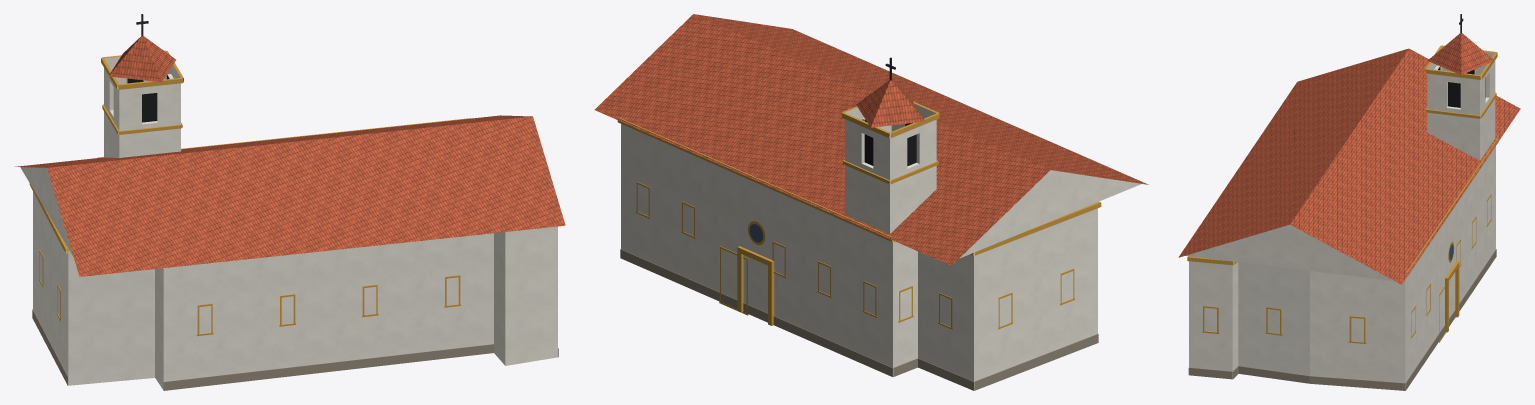
The picture shows the model from 3 angles, left to right: view 1: azimuth 30°, elevation 25°; view 2: azimuth 150°, elevation 25°; view 3: azimuth 270°, elevation 25°; orthographic projection. The views are drawn at different scales.
Visible parts, largest first — view 1: B-w1220983272_cubierta, B-w1220983272_lejos, B-w1220983272_muros, B-w1220983272_remates, B-w1220983272_molduras; view 2: B-w1220983272_cubierta, B-w1220983272_lejos, B-w1220983272_muros, B-w1220983272_remates, B-w1220983272_molduras; view 3: B-w1220983272_cubierta, B-w1220983272_lejos, B-w1220983272_muros, B-w1220983272_remates, B-w1220983272_molduras.
Boxes of the visible parts, left/top/right/bottom form: B-w1220983272_cubierta: left=15, top=115, right=565, bottom=276; B-w1220983272_lejos: left=40, top=207, right=557, bottom=384; B-w1220983272_muros: left=33, top=191, right=505, bottom=389; B-w1220983272_remates: left=101, top=14, right=183, bottom=157; B-w1220983272_molduras: left=29, top=118, right=558, bottom=390; B-w1220983272_cubierta: left=594, top=14, right=1148, bottom=265; B-w1220983272_lejos: left=621, top=124, right=1097, bottom=381; B-w1220983272_muros: left=622, top=124, right=1067, bottom=390; B-w1220983272_remates: left=737, top=57, right=939, bottom=350; B-w1220983272_molduras: left=617, top=117, right=1101, bottom=390; B-w1220983272_cubierta: left=1178, top=48, right=1520, bottom=284; B-w1220983272_lejos: left=1189, top=146, right=1495, bottom=389; B-w1220983272_muros: left=1211, top=158, right=1487, bottom=381; B-w1220983272_remates: left=1424, top=14, right=1497, bottom=332; B-w1220983272_molduras: left=1187, top=137, right=1498, bottom=390.
Bounding box in the file's own units: 40.34 × 23.42 × 28.76.
Materials: 4 (4 with a texture image).
